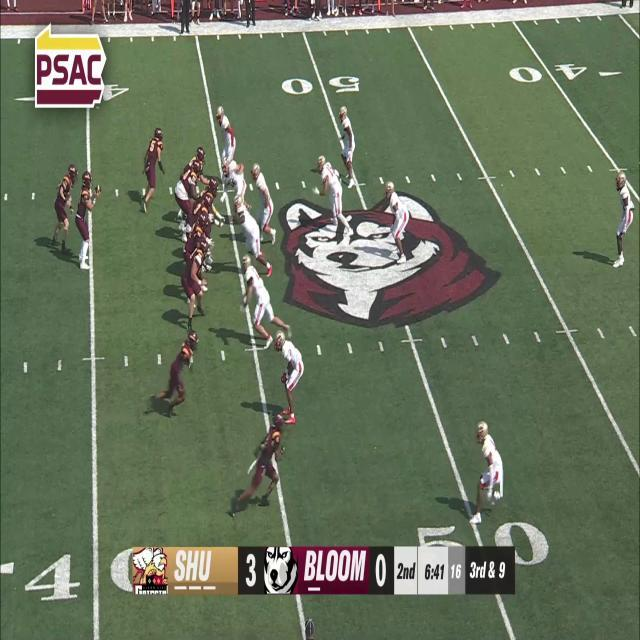football: (95, 184, 102, 197)
